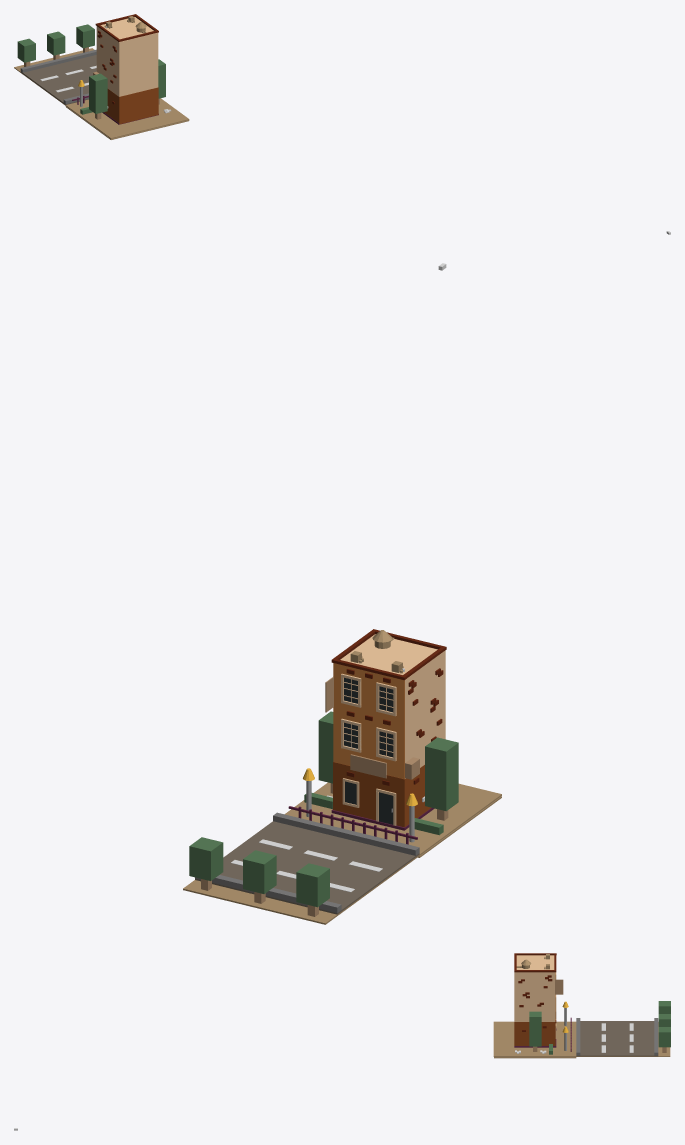
File: building.glb
The picture shows the model from 3 angles, top to bottom: view 1: azimuth 30°, elevation 25°; view 2: azimuth 150°, elevation 25°; view 3: azimuth 270°, elevation 25°; orthographic projection. The views are drawn at different scales.
Parts seen in each view (by area): view 1: Cube.001, Cube.034, Cube.100, Cube.004, Cube.006, Cube.027, Cube.009; view 2: Cube.004, Cube.034, Cube.100, Cube.001, Cube.032, Cube.006, Cube.027, Cube.044, Plane, Cube.009, Cube.089; view 3: Cube.004, Cube.001, Cube.100, Cube.034, Cube.006, Cube.027, Cube.009.
Boxes of the visible parts, x1,y1,x2,y2 form: Cube.001: (96,17,158,96); Cube.034: (17,24,165,113); Cube.100: (14,48,189,138); Cube.004: (20,55,96,104); Cube.006: (104,87,158,124); Cube.027: (20,49,96,103); Cube.009: (95,14,158,41); Cube.004: (195,821,419,914); Cube.034: (189,711,458,907); Cube.100: (183,782,501,924); Cube.001: (340,634,445,778); Cube.032: (333,663,404,779); Cube.006: (333,762,431,827); Cube.027: (195,812,419,912); Cube.044: (341,673,396,825); Plane: (344,677,393,757); Cube.009: (331,629,446,680); Cube.089: (325,677,419,779); Cube.004: (576,1021,657,1056); Cube.001: (514,955,555,1021); Cube.100: (493,1021,670,1056); Cube.034: (529,1001,670,1047); Cube.006: (514,1022,555,1045); Cube.027: (576,1018,658,1055); Cube.009: (514,953,556,972).
Size of the model in its own units: 151 by 45.44 by 319.
